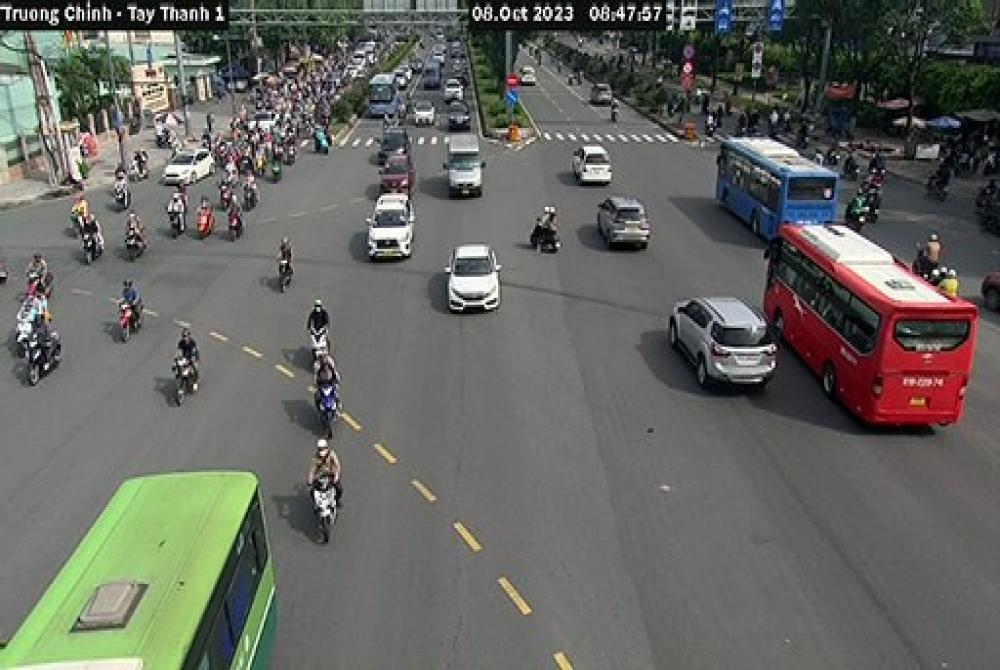bus: (1, 460, 279, 670), (761, 205, 983, 440), (703, 130, 853, 258)
car: (662, 290, 793, 414), (437, 236, 509, 340), (434, 130, 491, 201), (589, 195, 651, 258), (368, 186, 418, 260), (564, 134, 624, 195), (363, 143, 423, 200)
motorbike: (301, 456, 349, 515), (309, 372, 353, 432)
